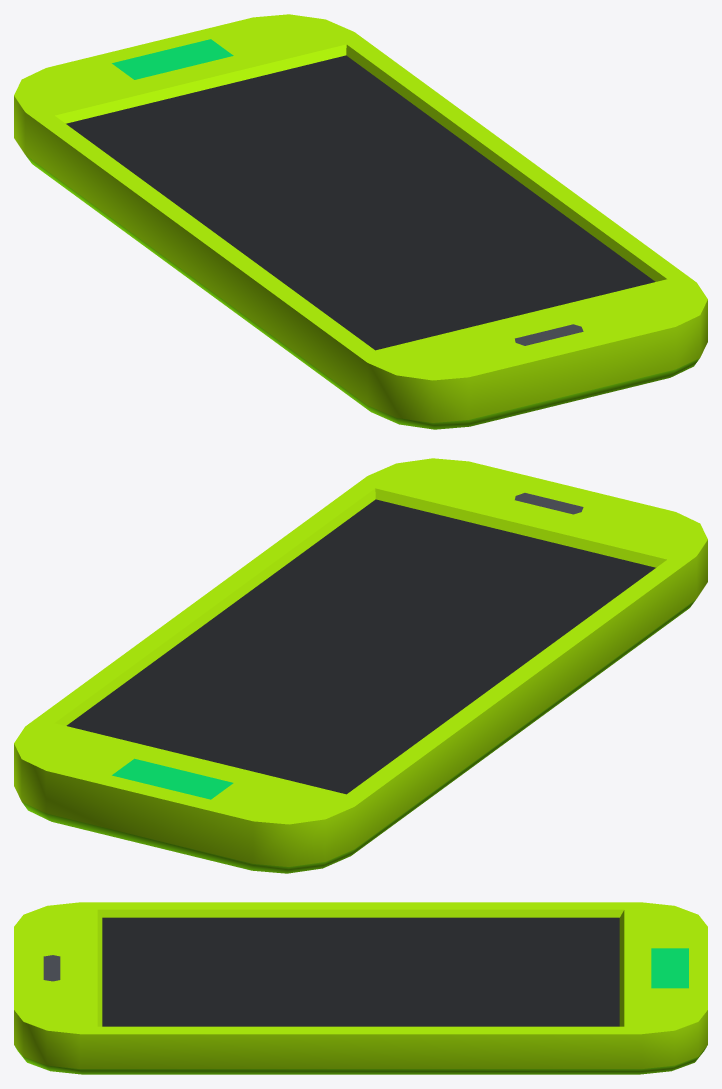
Rendered from NF_Phone_03.fbx.
3 views of the same model, one above another, from view 1: azimuth 30°, elevation 25°; view 2: azimuth 150°, elevation 25°; view 3: azimuth 270°, elevation 25° (orthographic). The views are drawn at different scales.
Parts seen in each view (by area): view 1: NF_Phone_03; view 2: NF_Phone_03; view 3: NF_Phone_03.
Boxes of the visible parts, x1,y1,x2,y2 form: NF_Phone_03: [14, 14, 707, 429]; NF_Phone_03: [14, 458, 707, 873]; NF_Phone_03: [14, 902, 707, 1074].
Bounding box in the file's own units: 0.1025 × 0.0171 × 0.2279.
